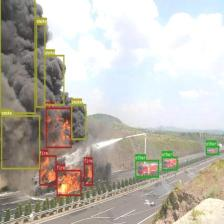fire: (46, 107, 72, 148), (56, 170, 82, 196), (39, 155, 56, 185), (84, 162, 93, 186)
smoke: (0, 0, 35, 113), (1, 115, 40, 169), (44, 55, 64, 106), (36, 23, 46, 107), (71, 104, 86, 140)
